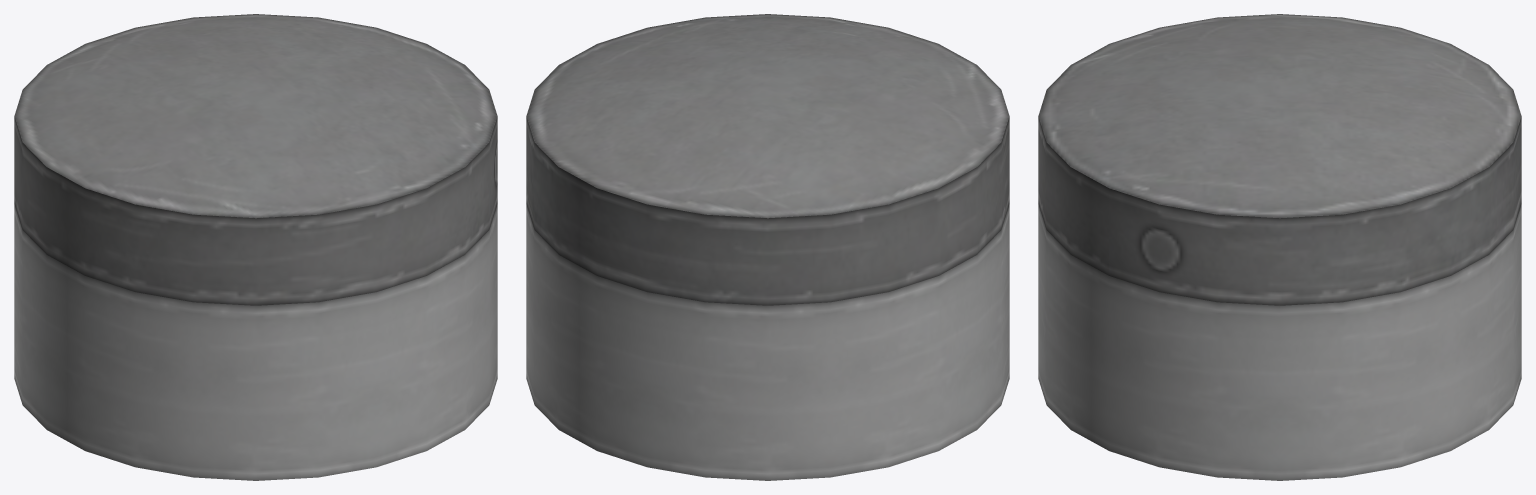
File: cygnus_engine_s0_1.obj
3 renders of one model, left to right at view 1: azimuth 30°, elevation 25°; view 2: azimuth 150°, elevation 25°; view 3: azimuth 270°, elevation 25°, orthographic.
Parts seen in each view (by area): view 1: mesh2, fairing2; view 2: mesh2, fairing2; view 3: mesh2, fairing2.
Boxes of the visible parts, x1=… form: mesh2: x1=14, y1=14, x2=497, y2=305; fairing2: x1=14, y1=204, x2=497, y2=480; mesh2: x1=526, y1=14, x2=1009, y2=305; fairing2: x1=526, y1=204, x2=1009, y2=480; mesh2: x1=1038, y1=14, x2=1521, y2=305; fairing2: x1=1038, y1=204, x2=1521, y2=480.
Bounding box in the file's own units: 0.625 × 0.4125 × 0.625.
2 materials, 2 textured.
